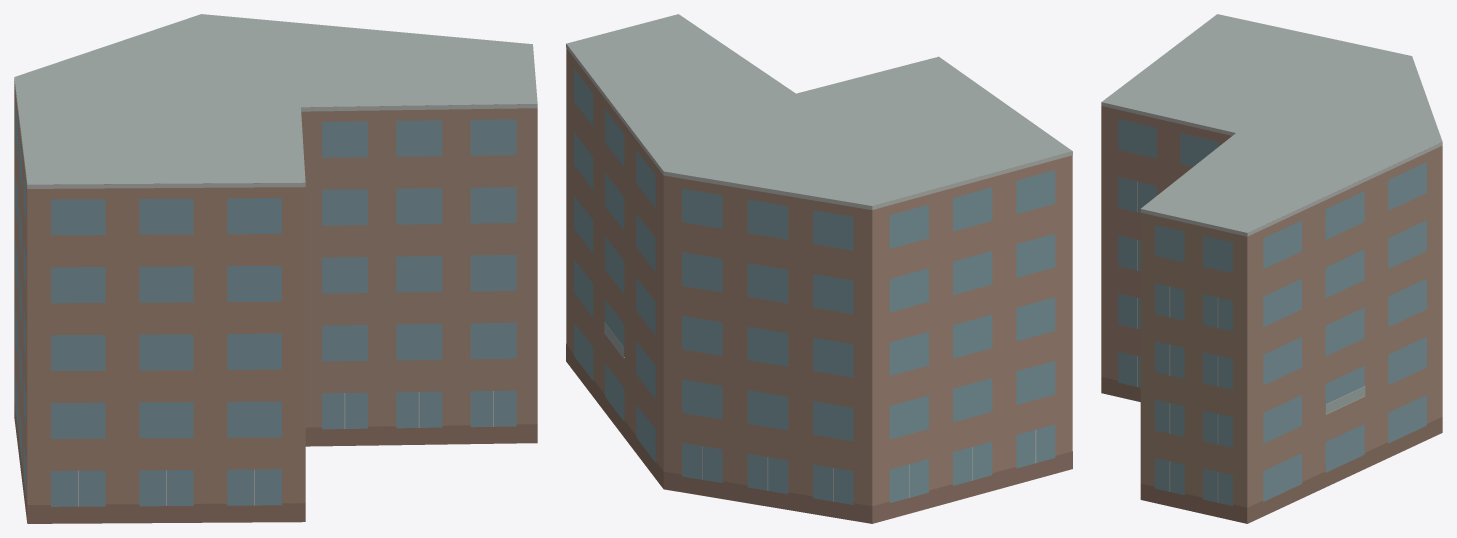
The model's file is survey-upis-32848591.glb.
3 views of the same model, side by side, from view 1: azimuth 30°, elevation 25°; view 2: azimuth 150°, elevation 25°; view 3: azimuth 270°, elevation 25° (orthographic). The views are drawn at different scales.
Parts seen in each view (by area): view 1: survey-upis-32848591.tmp; view 2: survey-upis-32848591.tmp; view 3: survey-upis-32848591.tmp.
Part boxes in pixels (x1=…): survey-upis-32848591.tmp: x1=14, y1=14, x2=537, y2=523; survey-upis-32848591.tmp: x1=566, y1=14, x2=1072, y2=523; survey-upis-32848591.tmp: x1=1101, y1=14, x2=1442, y2=523.
Bounding box in the file's own units: 30.65 × 18.99 × 20.2.
